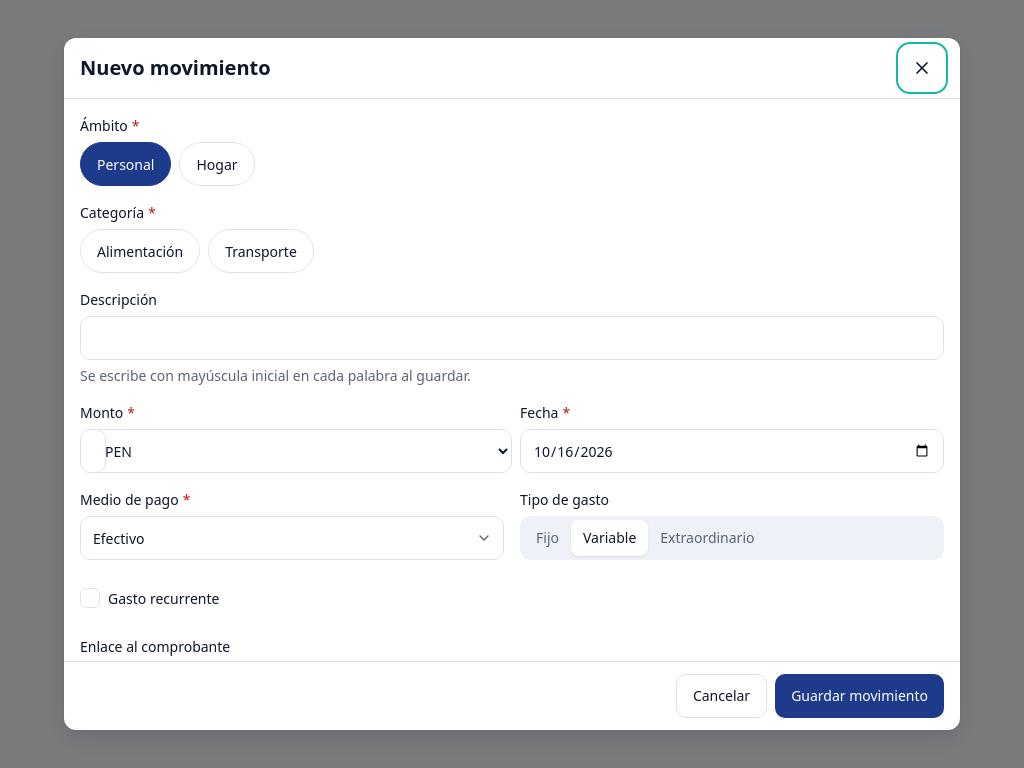
Test case: FormMovimiento · clasificación › al cambiar de ámbito conserva la categoría si sigue siendo válida y la limpia si no
Step 1. Click the radio button labelled "Transporte" → (261, 251), box x1=208 y1=229 x2=314 y2=273
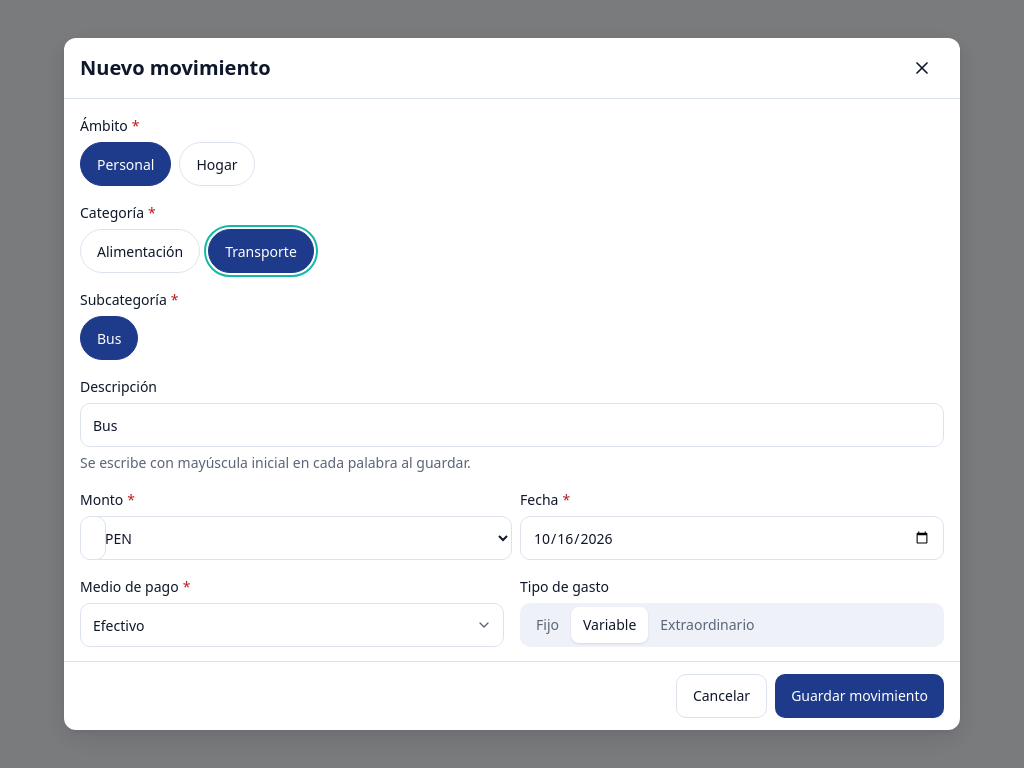
Step 2. Click the radio button labelled "Hogar" → (217, 164), box x1=180 y1=142 x2=255 y2=186
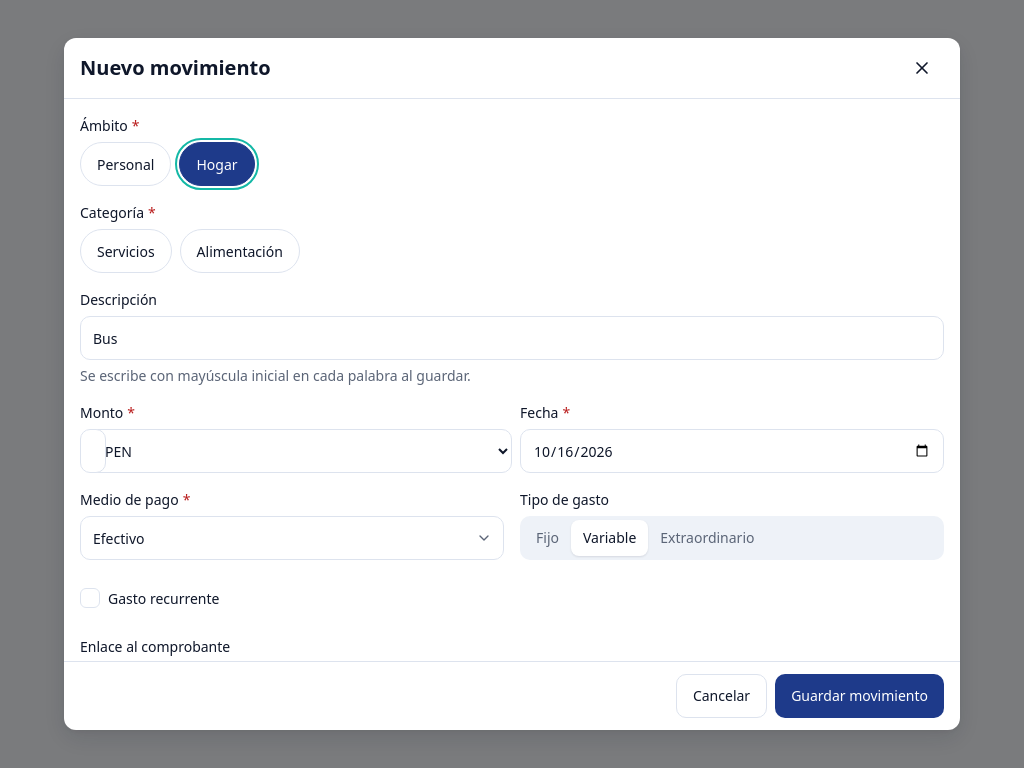
Check: the label "Subcategoría" is gone
